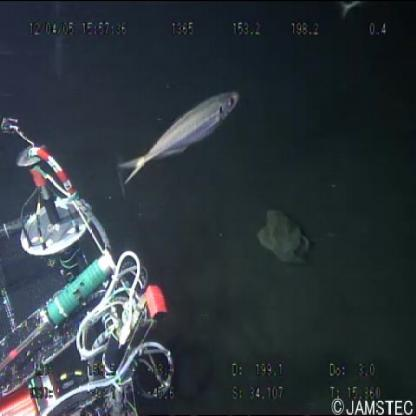Bio: (112, 87, 242, 190)
Rov: (1, 113, 180, 416)
Rác: (252, 206, 315, 272)
